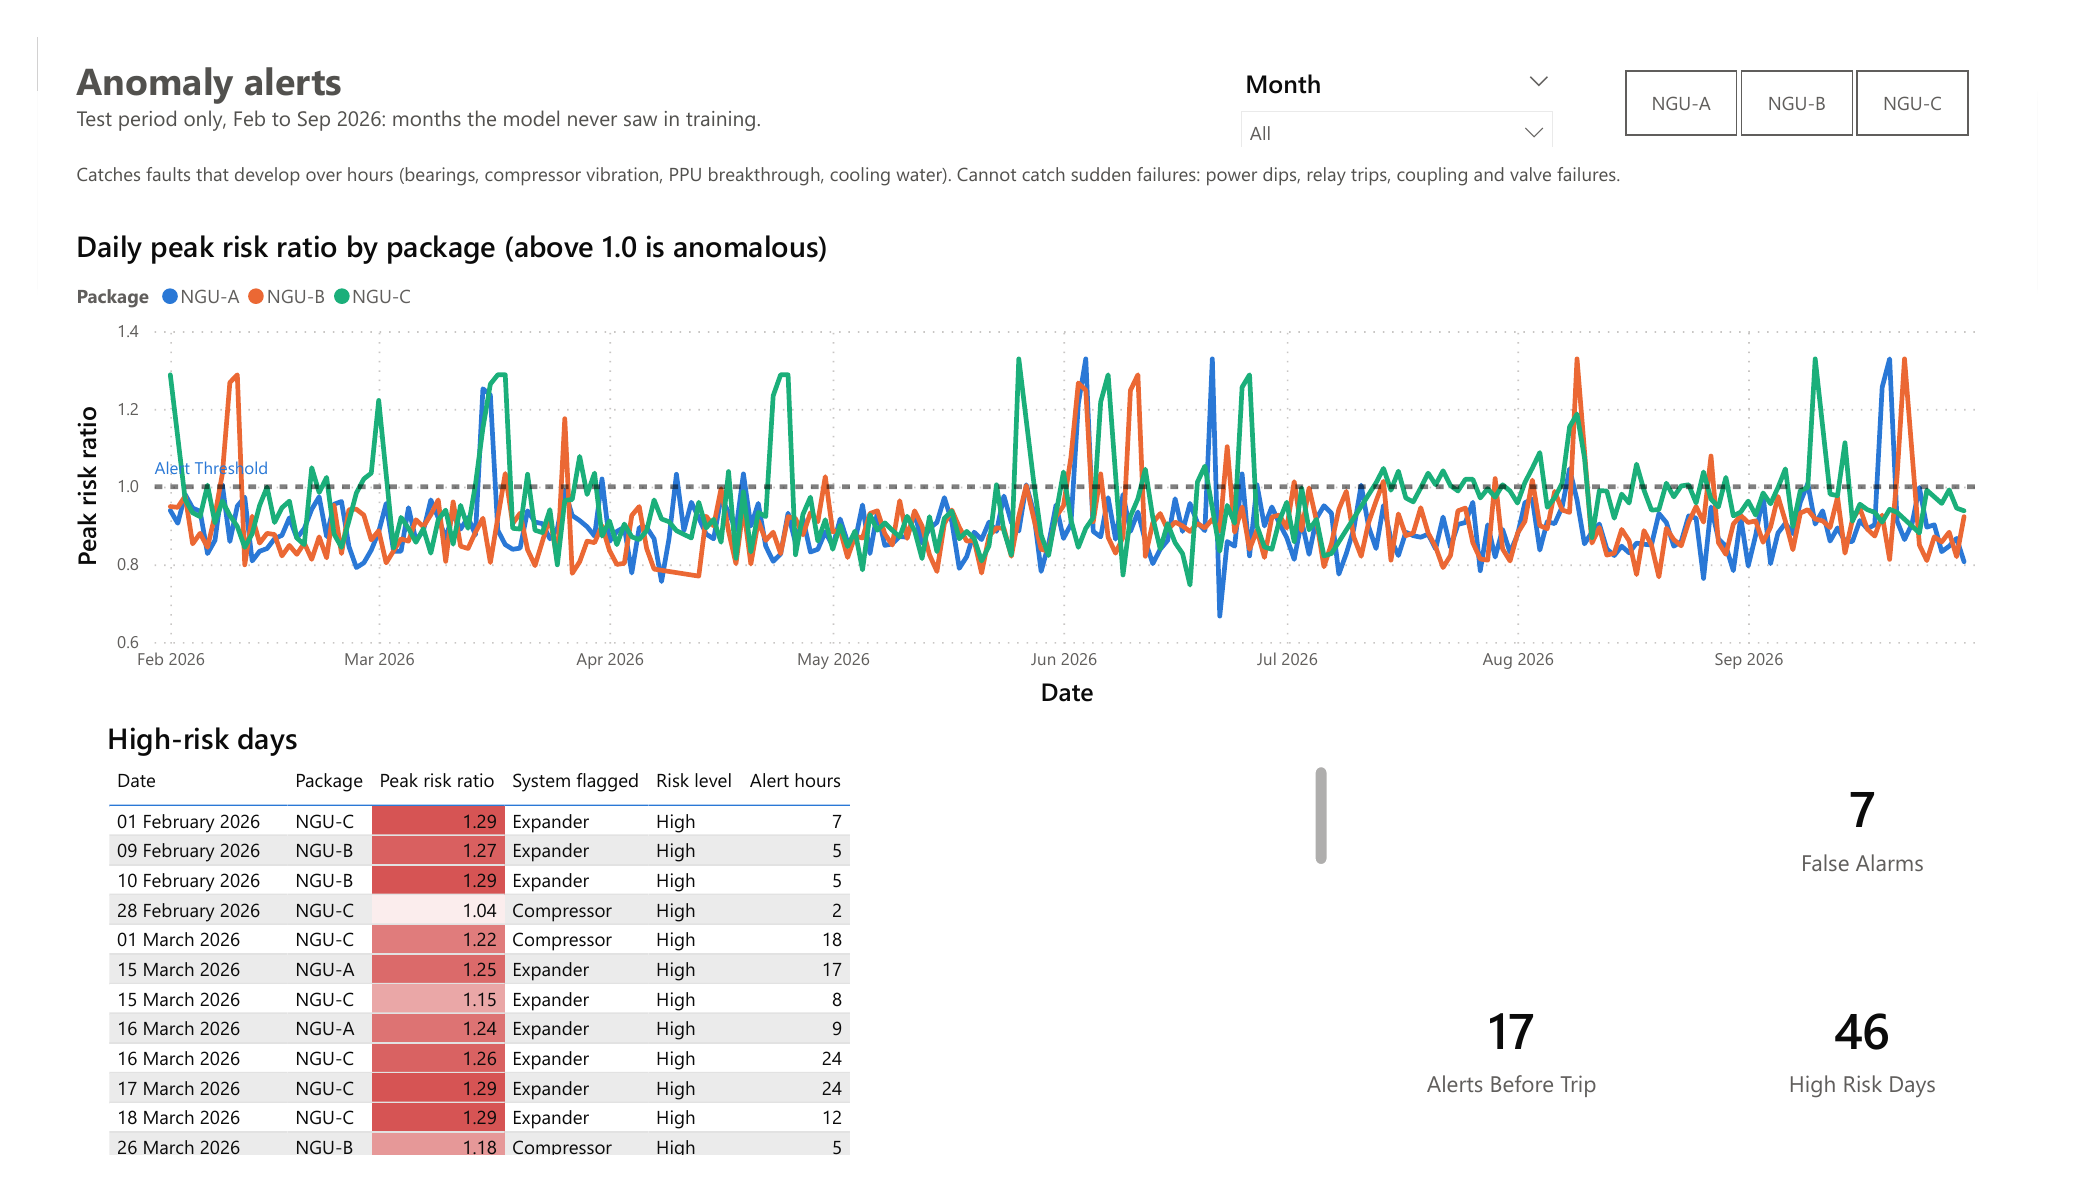

Layout of this report page (visuals, bound fields, positions):
{"tool":"powerbi","page":{"name":"Anomaly Alerts","canvas":[1280,720],"ordinal":3},"visuals":[{"type":"textbox","box":[20,6,720,68],"z":0},{"type":"slicer","fields":{"Values":["dim_date.month_name"]},"box":[760,14,220,56],"z":1000},{"type":"slicer","fields":{"Values":["dim_package.package_id"]},"box":[990,14,270,56],"z":2000},{"type":"lineChart","title":"Daily peak risk ratio by package (above 1.0 is anomalous)","fields":{"Category":["dim_date.date"],"Y":["Sum(fact_anomaly_daily.max_risk_ratio)"],"Series":["dim_package.package_id"]},"box":[20,121.4,1240,312.9],"z":3000},{"type":"tableEx","title":"High-risk days","fields":{"Values":["fact_anomaly_daily.date","dim_package.package_id","Sum(fact_anomaly_daily.max_risk_ratio)","fact_anomaly_daily.flagged_system","fact_anomaly_daily.risk_level","fact_anomaly_daily.alert_hours"]},"box":[20,444,800,266],"z":4000},{"type":"textbox","box":[20,74.3,1240,47.1],"z":5000},{"type":"card","fields":{"Values":["_Measures.Alerts Before Trip"]},"box":[830,444,430,84],"z":6000},{"type":"card","fields":{"Values":["_Measures.False Alarms"]},"box":[830,535,430,84],"z":7000},{"type":"card","fields":{"Values":["_Measures.High Risk Days"]},"box":[830,626,430,84],"z":8000}]}

Visuals, with their boxes on the page's 1280x720 design canvas (x1, y1, x2, y2). These are canvas units, not pixel positions in the 2075x1200 screenshot, which may show the page scaled, cropped or inside an application window:
textbox: Rect(20, 6, 740, 74)
slicer - dim_date.month_name: Rect(760, 14, 980, 70)
slicer - dim_package.package_id: Rect(990, 14, 1260, 70)
"Daily peak risk ratio by package (above 1.0 is anomalous)" lineChart: Rect(20, 121, 1260, 434)
"High-risk days" tableEx: Rect(20, 444, 820, 710)
textbox: Rect(20, 74, 1260, 121)
card - _Measures.Alerts Before Trip: Rect(830, 444, 1260, 528)
card - _Measures.False Alarms: Rect(830, 535, 1260, 619)
card - _Measures.High Risk Days: Rect(830, 626, 1260, 710)
